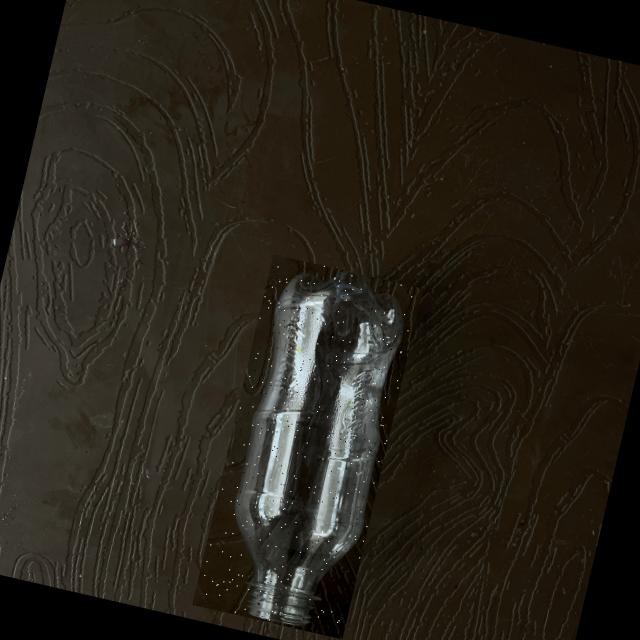PET_ClearBottle: (192, 255, 422, 640)
